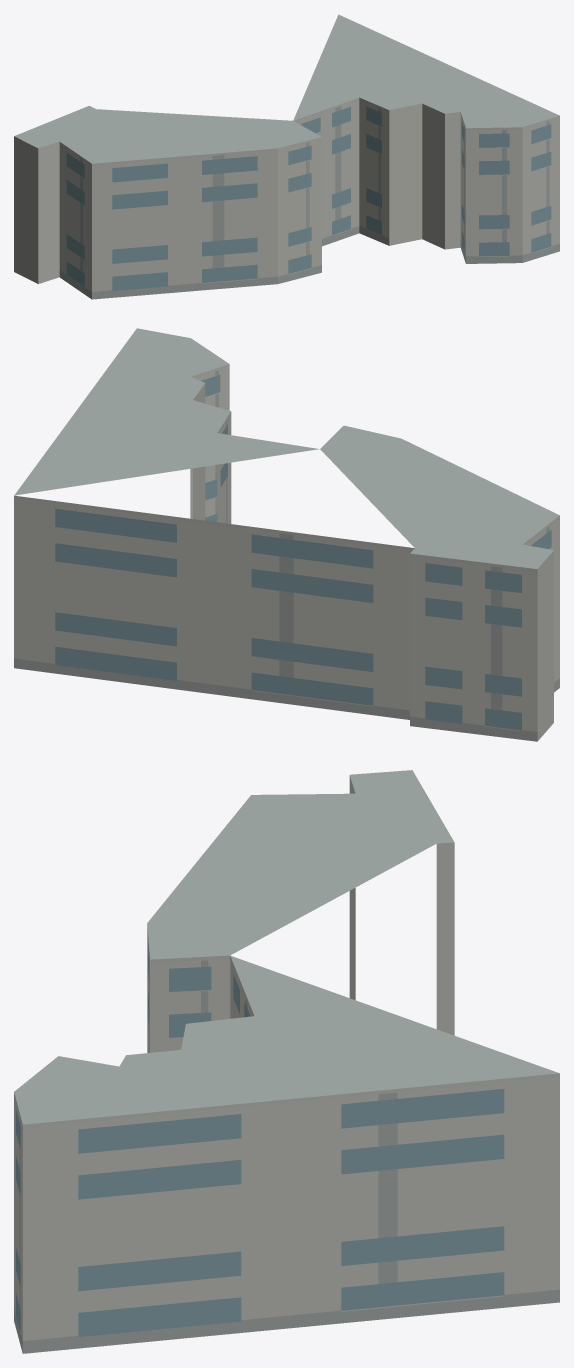
Rendered from survey-upis-32808607.glb.
The picture shows the model from 3 angles, top to bottom: view 1: azimuth 30°, elevation 25°; view 2: azimuth 150°, elevation 25°; view 3: azimuth 270°, elevation 25°; orthographic projection. The views are drawn at different scales.
Parts seen in each view (by area): view 1: survey-upis-32808607.tmp; view 2: survey-upis-32808607.tmp; view 3: survey-upis-32808607.tmp.
Part boxes in pixels (<box>): survey-upis-32808607.tmp: <box>14,14,559,299</box>; survey-upis-32808607.tmp: <box>14,328,559,741</box>; survey-upis-32808607.tmp: <box>14,770,559,1353</box>.
Bounding box in the file's own units: 50.63 × 15.25 × 32.93.
